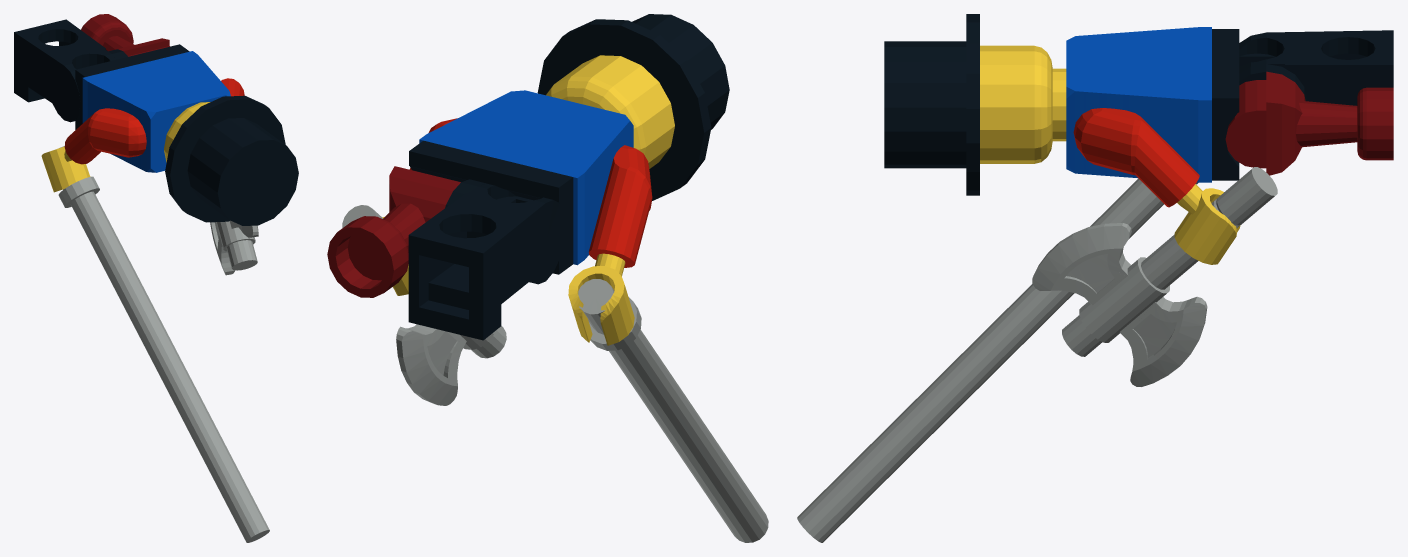
Rendered from weird_man.obj.
3 renders of one model, left to right at view 1: azimuth 30°, elevation 25°; view 2: azimuth 150°, elevation 25°; view 3: azimuth 270°, elevation 25°, orthographic. The views are drawn at different scales.
Visible parts, largest first — view 1: Hat, LightSaber, Torso, LegR, ArmR, Axe, LegL, Hips, HandR, Head; view 2: LegR, Hat, Torso, LightSaber, LegL, Head, Hips, Axe, ArmR, HandR; view 3: Axe, Torso, LightSaber, Hat, LegL, Head, LegR, ArmL, Hips, HandL.
Boxes of the visible parts, x1,y1,x2,y2 form: Hat: [165, 95, 298, 225]; LightSaber: [58, 146, 269, 542]; Torso: [82, 51, 230, 172]; LegR: [14, 19, 116, 122]; ArmR: [64, 108, 146, 164]; Axe: [210, 220, 258, 275]; LegL: [81, 14, 169, 56]; Hips: [75, 44, 189, 129]; HandR: [41, 146, 90, 192]; Head: [164, 102, 210, 162]; LegR: [408, 183, 565, 340]; Hat: [537, 14, 729, 200]; Torso: [419, 90, 633, 265]; LightSaber: [578, 279, 768, 542]; LegL: [327, 166, 460, 297]; Head: [546, 55, 674, 168]; Hips: [409, 140, 573, 274]; Axe: [342, 205, 506, 405]; ArmR: [588, 145, 652, 267]; HandR: [568, 253, 634, 345]; Axe: [1032, 167, 1277, 386]; Torso: [1066, 27, 1211, 182]; LightSaber: [797, 178, 1198, 542]; Hat: [884, 14, 979, 195]; LegL: [1225, 71, 1393, 175]; Head: [980, 45, 1066, 163]; LegR: [1239, 30, 1393, 105]; ArmL: [1073, 108, 1199, 207]; Hips: [1212, 29, 1307, 180]; HandL: [1174, 184, 1240, 264].
Bounding box in the file's own units: 62.28 × 130 × 131.
